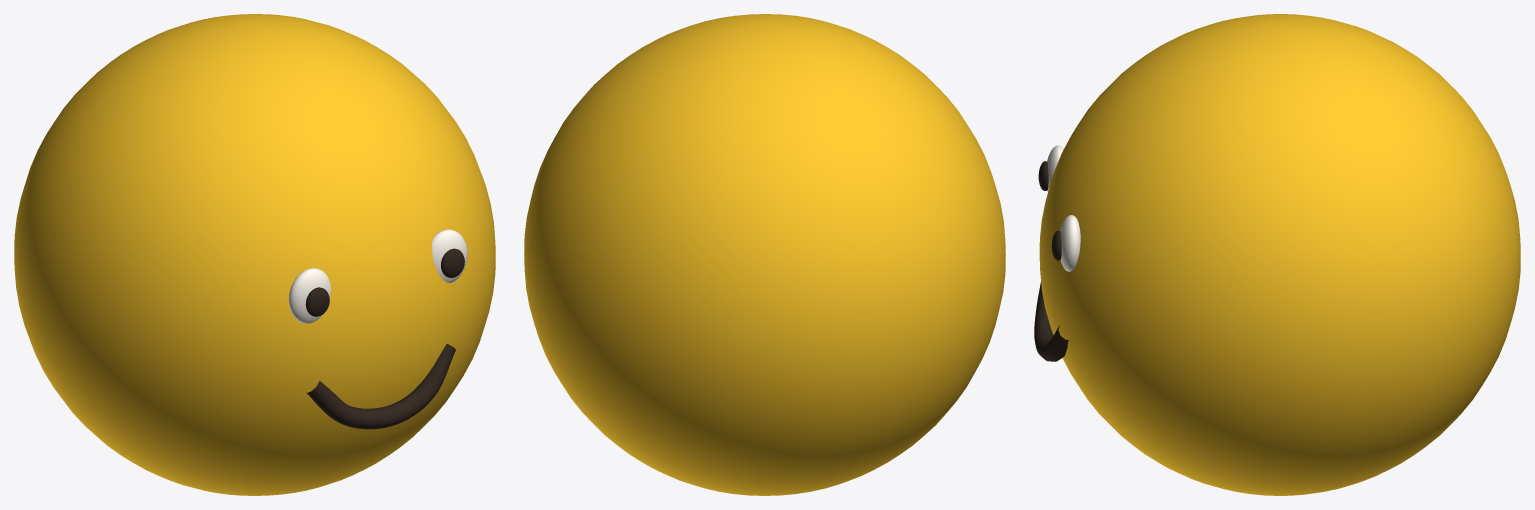
File: happy.glb
3 renders of one model, left to right at view 1: azimuth 30°, elevation 25°; view 2: azimuth 150°, elevation 25°; view 3: azimuth 270°, elevation 25°, orthographic.
Size of the model in its own units: 2 by 2 by 2.02.
